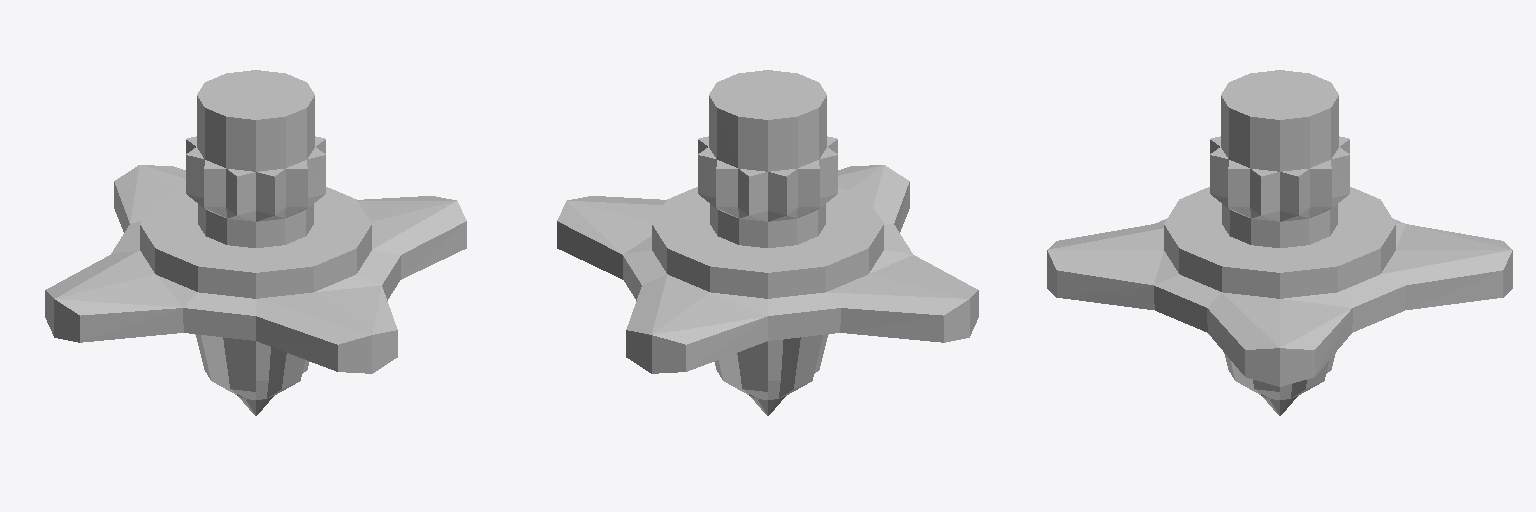
The model's file is 6Bit.obj.
The picture shows the model from 3 angles: view 1: azimuth 30°, elevation 25°; view 2: azimuth 150°, elevation 25°; view 3: azimuth 270°, elevation 25°; orthographic projection.
Parts seen in each view (by area): view 1: 6Bit; view 2: 6Bit; view 3: 6Bit.
Boxes of the visible parts, x1=… form: 6Bit: x1=45, y1=70, x2=466, y2=415; 6Bit: x1=557, y1=70, x2=978, y2=415; 6Bit: x1=1047, y1=70, x2=1512, y2=415.
Size of the model in its own units: 3.26 by 2.48 by 3.26.